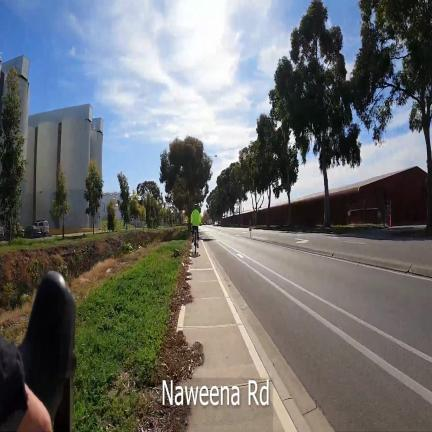Bike_Lane: (206, 241, 432, 432)
